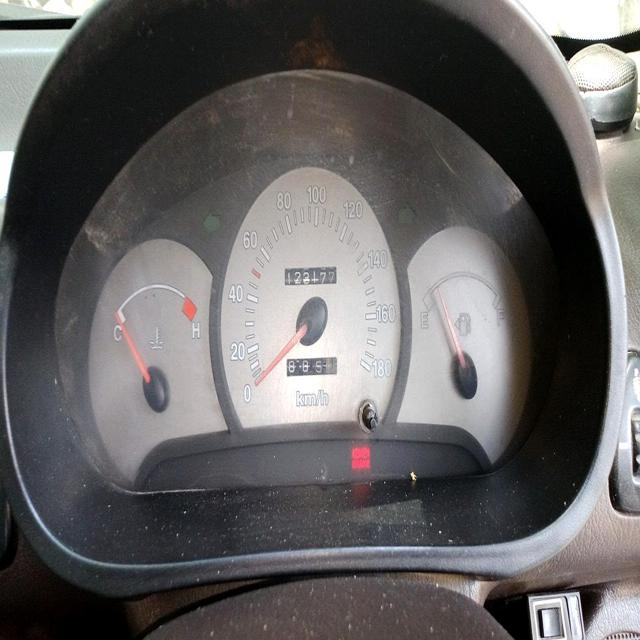odometer: (284, 266, 337, 286)
